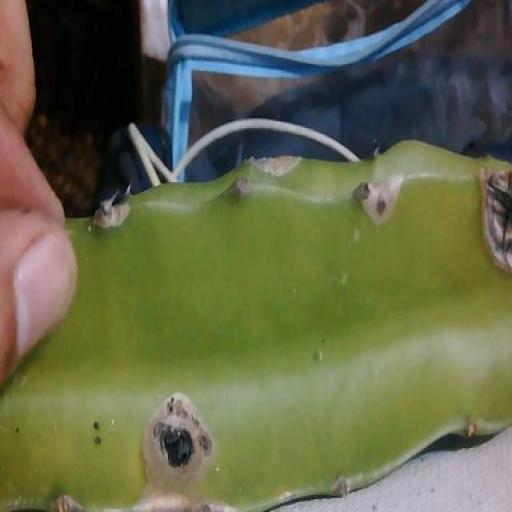stemcanker: (314, 342, 328, 372), (288, 280, 302, 299), (351, 223, 363, 245)
